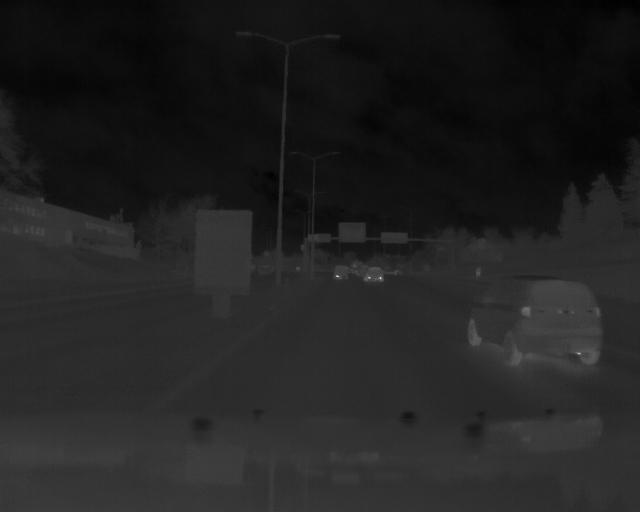car: (462, 271, 603, 380), (363, 267, 385, 284), (331, 264, 351, 281)
